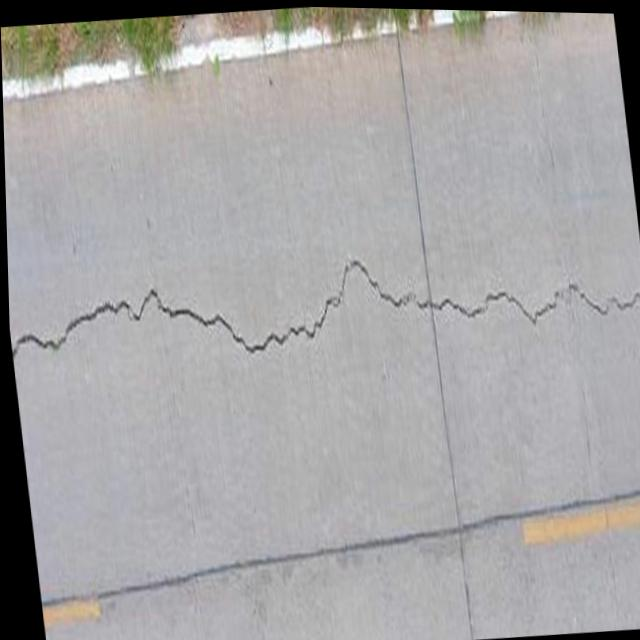Crack: (4, 189, 640, 438)
